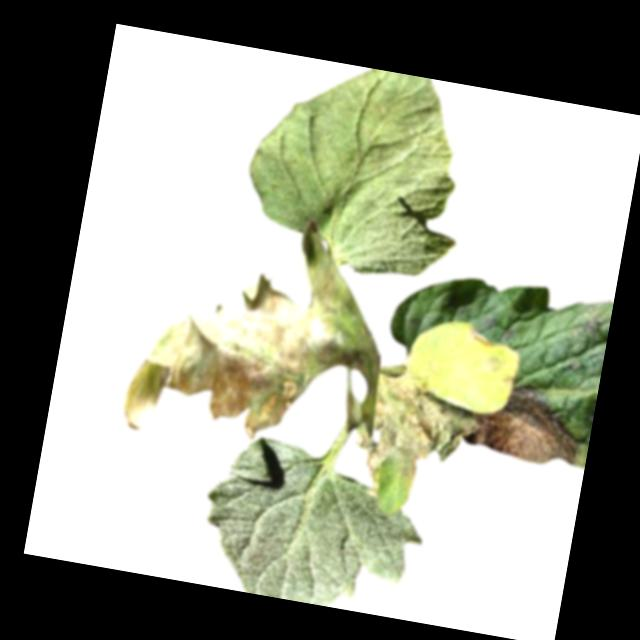Late_blight: (88, 185, 390, 468), (347, 364, 486, 510), (460, 373, 588, 471), (465, 326, 494, 351)
healthy: (234, 50, 484, 287), (192, 429, 437, 620)
